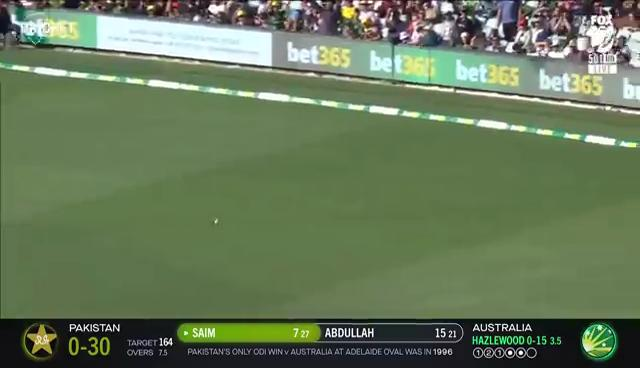ball: (208, 215, 232, 231)
